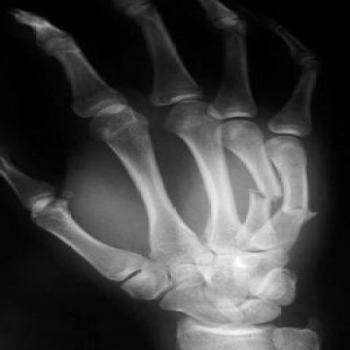Fracture: (280, 199, 331, 223), (245, 183, 281, 206)
